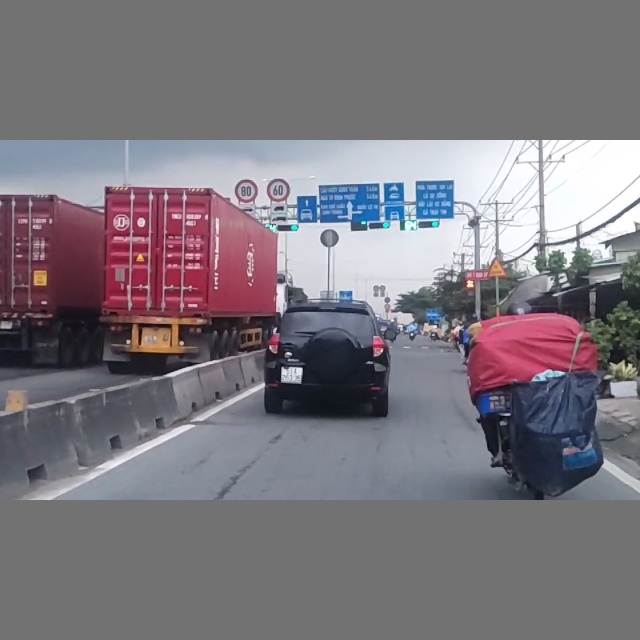P.127*60: (266, 179, 291, 203)
P.127*80: (234, 179, 259, 203)
W.245a: (486, 256, 507, 278)
